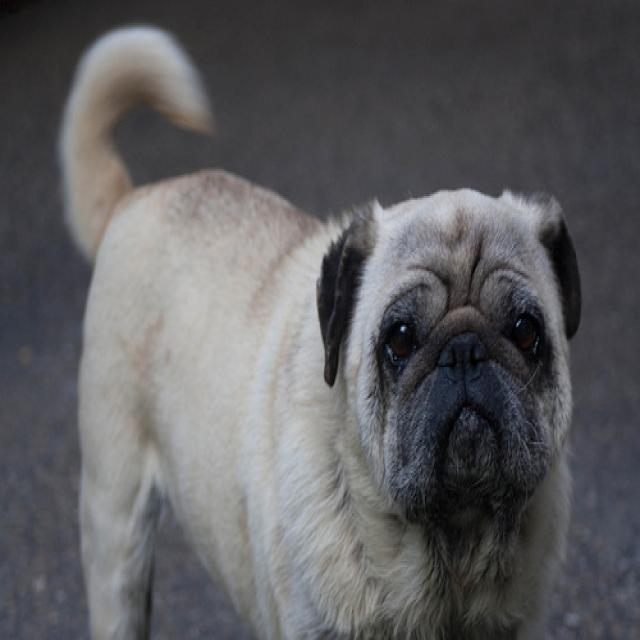dog-pug: (54, 21, 590, 636)
